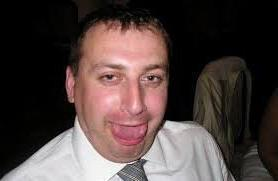Drunk: (86, 29, 165, 154)
